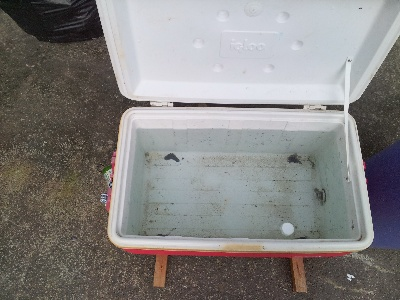box: (106, 104, 376, 260)
